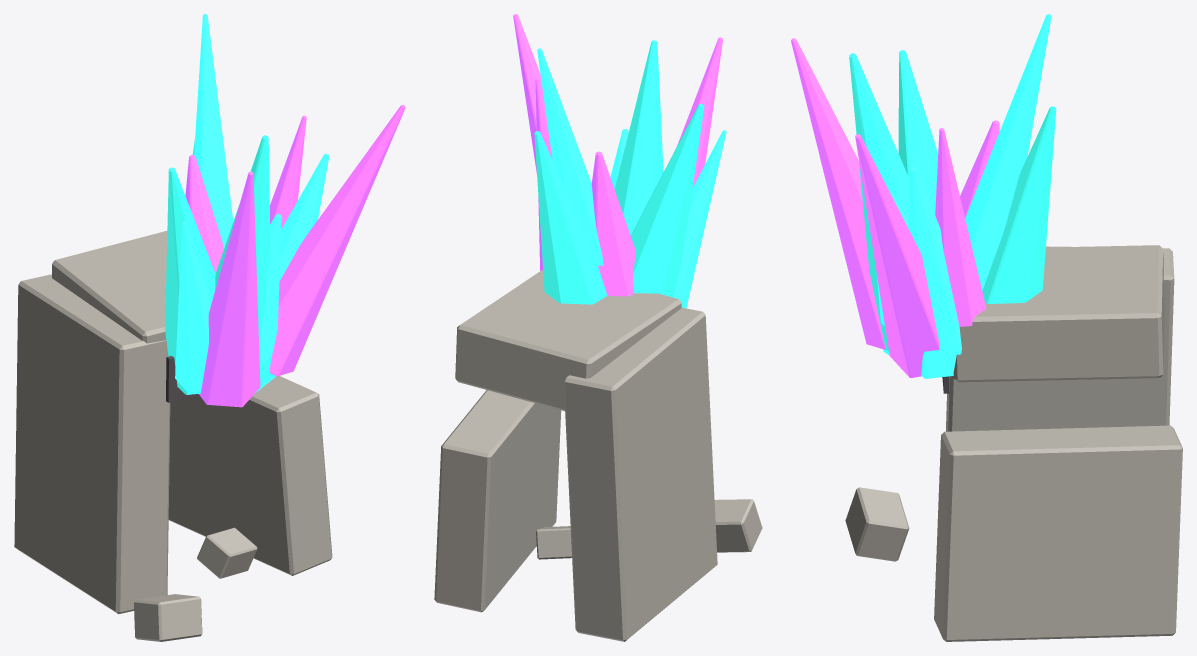
The model's file is runtime.glb.
3 views of the same model, side by side, from view 1: azimuth 30°, elevation 25°; view 2: azimuth 150°, elevation 25°; view 3: azimuth 270°, elevation 25° (orthographic). The views are drawn at different scales.
Visible parts, largest first — view 1: crystal-ruins-crystal-growth-v10_stone_00_nocol, crystal-ruins-crystal-growth-v10_stone_01_nocol, crystal-ruins-crystal-growth-v10_crystal_10_nocol, crystal-ruins-crystal-growth-v10_crystal_07_nocol, crystal-ruins-crystal-growth-v10_stone_02_nocol, crystal-ruins-crystal-growth-v10_crystal_03_nocol, crystal-ruins-crystal-growth-v10_crystal_06_nocol, crystal-ruins-crystal-growth-v10_crystal_05_nocol, crystal-ruins-crystal-growth-v10_crystal_08_nocol, crystal-ruins-crystal-growth-v10_stone_11_nocol, crystal-ruins-crystal-growth-v10_crystal_00_nocol, crystal-ruins-crystal-growth-v10_stone_10_nocol (+4 smaller); view 2: crystal-ruins-crystal-growth-v10_stone_00_nocol, crystal-ruins-crystal-growth-v10_stone_01_nocol, crystal-ruins-crystal-growth-v10_stone_02_nocol, crystal-ruins-crystal-growth-v10_crystal_05_nocol, crystal-ruins-crystal-growth-v10_crystal_02_nocol, crystal-ruins-crystal-growth-v10_crystal_08_nocol, crystal-ruins-crystal-growth-v10_crystal_03_nocol, crystal-ruins-crystal-growth-v10_crystal_04_nocol, crystal-ruins-crystal-growth-v10_crystal_06_nocol, crystal-ruins-crystal-growth-v10_stone_11_nocol, crystal-ruins-crystal-growth-v10_crystal_07_nocol, crystal-ruins-crystal-growth-v10_crystal_10_nocol (+2 smaller); view 3: crystal-ruins-crystal-growth-v10_stone_01_nocol, crystal-ruins-crystal-growth-v10_stone_02_nocol, crystal-ruins-crystal-growth-v10_stone_00_nocol, crystal-ruins-crystal-growth-v10_crystal_10_nocol, crystal-ruins-crystal-growth-v10_crystal_07_nocol, crystal-ruins-crystal-growth-v10_crystal_02_nocol, crystal-ruins-crystal-growth-v10_crystal_03_nocol, crystal-ruins-crystal-growth-v10_crystal_00_nocol, crystal-ruins-crystal-growth-v10_crystal_01_nocol, crystal-ruins-crystal-growth-v10_crystal_08_nocol, crystal-ruins-crystal-growth-v10_stone_11_nocol, crystal-ruins-crystal-growth-v10_crystal_05_nocol (+1 smaller).
Part boxes in pixels (x1=…): crystal-ruins-crystal-growth-v10_stone_00_nocol: x1=14, y1=274, x2=170, y2=614; crystal-ruins-crystal-growth-v10_stone_01_nocol: x1=168, y1=376, x2=332, y2=575; crystal-ruins-crystal-growth-v10_crystal_10_nocol: x1=269, y1=105, x2=405, y2=376; crystal-ruins-crystal-growth-v10_crystal_07_nocol: x1=199, y1=171, x2=260, y2=407; crystal-ruins-crystal-growth-v10_stone_02_nocol: x1=52, y1=231, x2=167, y2=343; crystal-ruins-crystal-growth-v10_crystal_03_nocol: x1=194, y1=14, x2=233, y2=248; crystal-ruins-crystal-growth-v10_crystal_06_nocol: x1=175, y1=221, x2=211, y2=394; crystal-ruins-crystal-growth-v10_crystal_05_nocol: x1=165, y1=167, x2=215, y2=394; crystal-ruins-crystal-growth-v10_crystal_08_nocol: x1=215, y1=135, x2=272, y2=385; crystal-ruins-crystal-growth-v10_stone_11_nocol: x1=134, y1=594, x2=202, y2=641; crystal-ruins-crystal-growth-v10_crystal_00_nocol: x1=279, y1=153, x2=329, y2=281; crystal-ruins-crystal-growth-v10_stone_10_nocol: x1=197, y1=527, x2=257, y2=578; crystal-ruins-crystal-growth-v10_stone_00_nocol: x1=563, y1=307, x2=717, y2=641; crystal-ruins-crystal-growth-v10_stone_01_nocol: x1=434, y1=390, x2=561, y2=612; crystal-ruins-crystal-growth-v10_stone_02_nocol: x1=455, y1=270, x2=681, y2=410; crystal-ruins-crystal-growth-v10_crystal_05_nocol: x1=631, y1=104, x2=704, y2=297; crystal-ruins-crystal-growth-v10_crystal_02_nocol: x1=534, y1=131, x2=607, y2=304; crystal-ruins-crystal-growth-v10_crystal_08_nocol: x1=614, y1=40, x2=663, y2=235; crystal-ruins-crystal-growth-v10_crystal_03_nocol: x1=537, y1=48, x2=603, y2=265; crystal-ruins-crystal-growth-v10_crystal_04_nocol: x1=591, y1=151, x2=635, y2=296; crystal-ruins-crystal-growth-v10_crystal_06_nocol: x1=673, y1=130, x2=726, y2=308; crystal-ruins-crystal-growth-v10_stone_11_nocol: x1=714, y1=499, x2=762, y2=552; crystal-ruins-crystal-growth-v10_crystal_07_nocol: x1=677, y1=37, x2=722, y2=187; crystal-ruins-crystal-growth-v10_crystal_10_nocol: x1=513, y1=14, x2=542, y2=173; crystal-ruins-crystal-growth-v10_stone_01_nocol: x1=934, y1=425, x2=1182, y2=641; crystal-ruins-crystal-growth-v10_stone_02_nocol: x1=953, y1=245, x2=1164, y2=382; crystal-ruins-crystal-growth-v10_stone_00_nocol: x1=945, y1=246, x2=1174, y2=431; crystal-ruins-crystal-growth-v10_crystal_10_nocol: x1=855, y1=134, x2=939, y2=377; crystal-ruins-crystal-growth-v10_crystal_07_nocol: x1=791, y1=38, x2=885, y2=349; crystal-ruins-crystal-growth-v10_crystal_02_nocol: x1=982, y1=106, x2=1056, y2=303; crystal-ruins-crystal-growth-v10_crystal_03_nocol: x1=965, y1=14, x2=1051, y2=290; crystal-ruins-crystal-growth-v10_crystal_00_nocol: x1=908, y1=166, x2=961, y2=378; crystal-ruins-crystal-growth-v10_crystal_01_nocol: x1=935, y1=128, x2=986, y2=326; crystal-ruins-crystal-growth-v10_crystal_08_nocol: x1=849, y1=53, x2=909, y2=351; crystal-ruins-crystal-growth-v10_stone_11_nocol: x1=845, y1=487, x2=909, y2=561; crystal-ruins-crystal-growth-v10_crystal_05_nocol: x1=898, y1=50, x2=938, y2=214.
Size of the model in its own units: 4.07 by 8.21 by 4.86.
